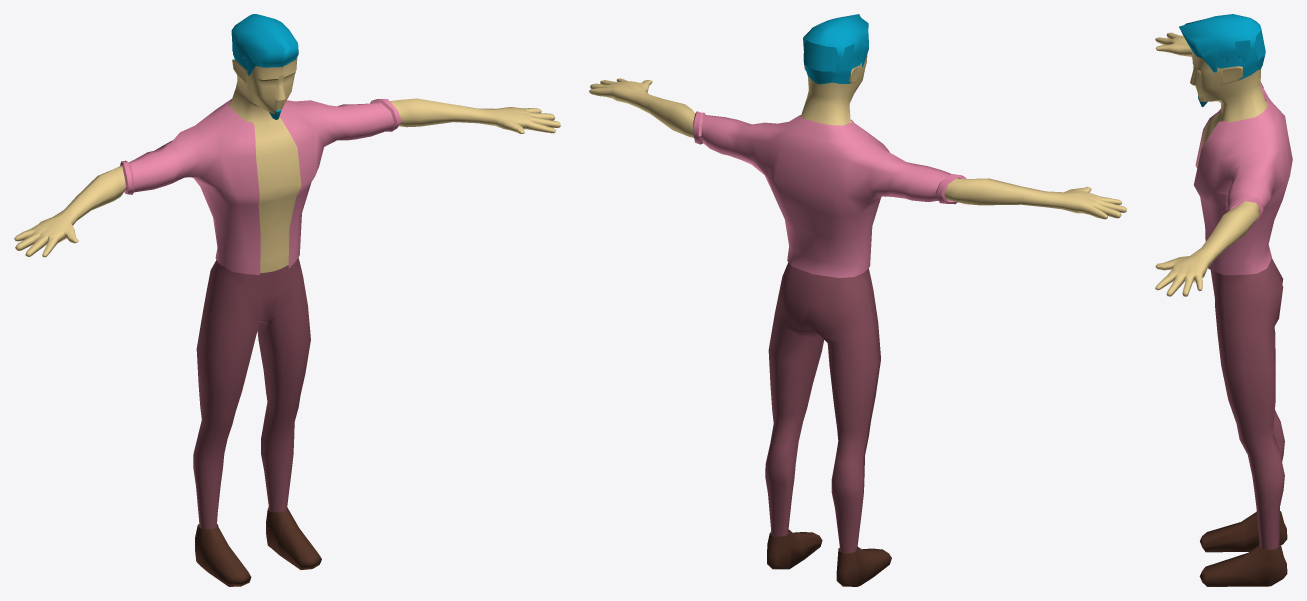
Rendered from Stenly.fbx.
3 views of the same model, side by side, from view 1: azimuth 30°, elevation 25°; view 2: azimuth 150°, elevation 25°; view 3: azimuth 270°, elevation 25° (orthographic).
Parts seen in each view (by area): view 1: Stenly; view 2: Stenly; view 3: Stenly.
Boxes of the visible parts, left/top/right/bottom form: Stenly: left=14, top=14, right=560, bottom=586; Stenly: left=589, top=14, right=1126, bottom=586; Stenly: left=1155, top=14, right=1292, bottom=586.
Bounding box in the file's own units: 190 × 184 × 41.95.
